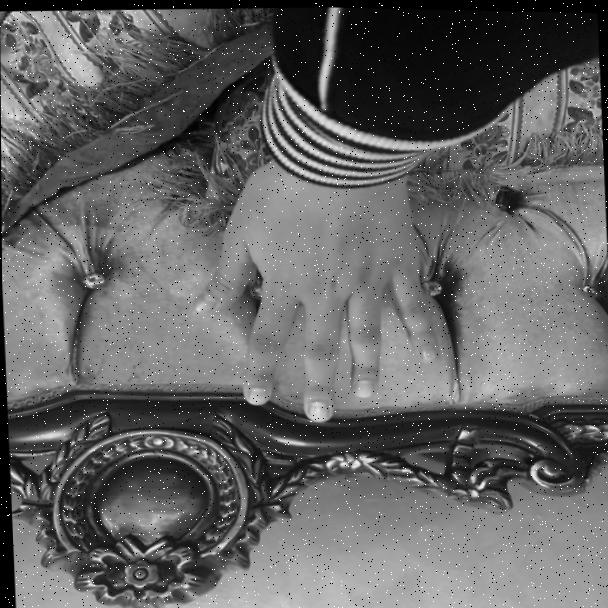five: (182, 143, 464, 429)
